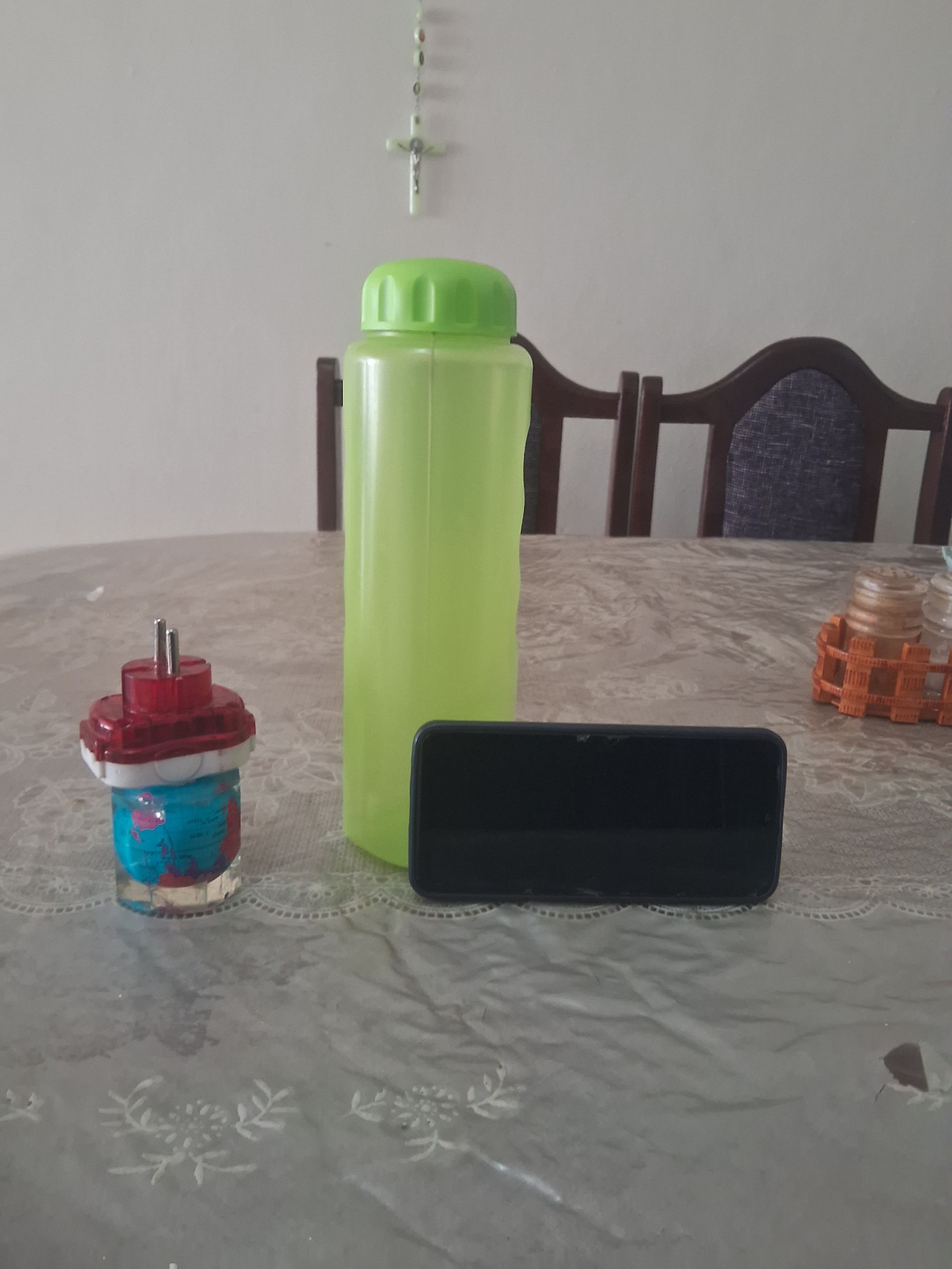Multi_adapter: (76, 615, 260, 789)
Smart_phone: (405, 715, 791, 912)
Water_bottle: (329, 250, 539, 878)
world_globe: (108, 767, 245, 919)
